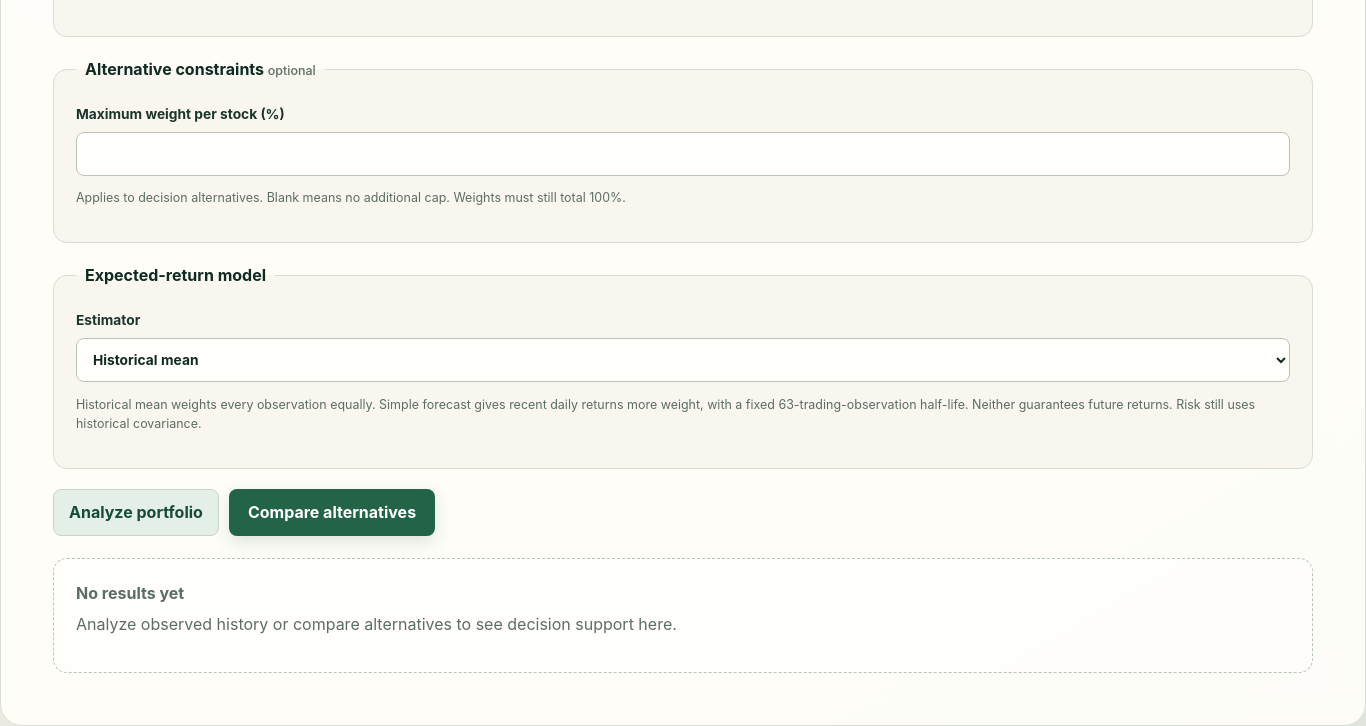
PortfolioAnalysisWorkspace › shows machine-readable API errors
(page scrolled)
Click the button "Analyze portfolio" at (136, 512), box top-left (53, 489), bottom-right (219, 536)
(page scrolled)
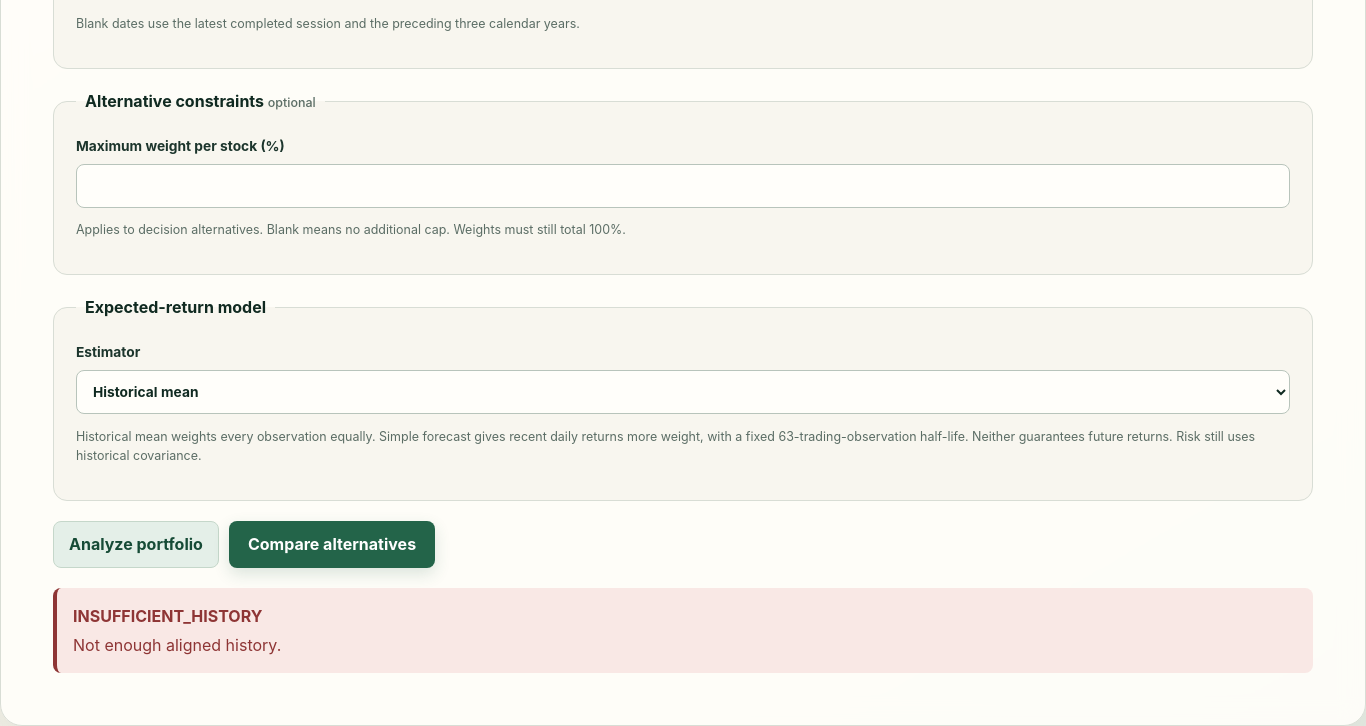
Expected: the message shows "INSUFFICIENT_HISTORY", top-left (73, 606), bottom-right (262, 626)
